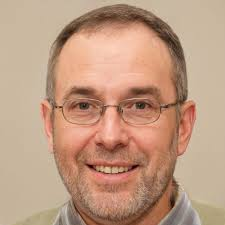without_mask: (38, 68, 189, 220)
